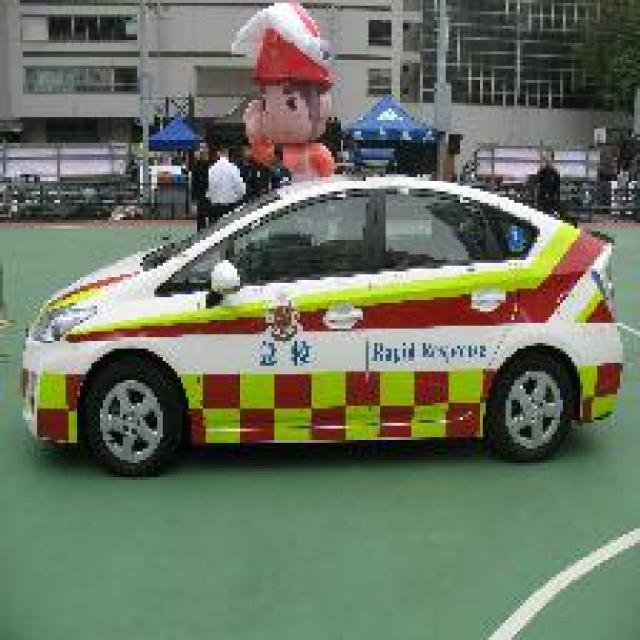Police-car: (17, 172, 626, 477)
